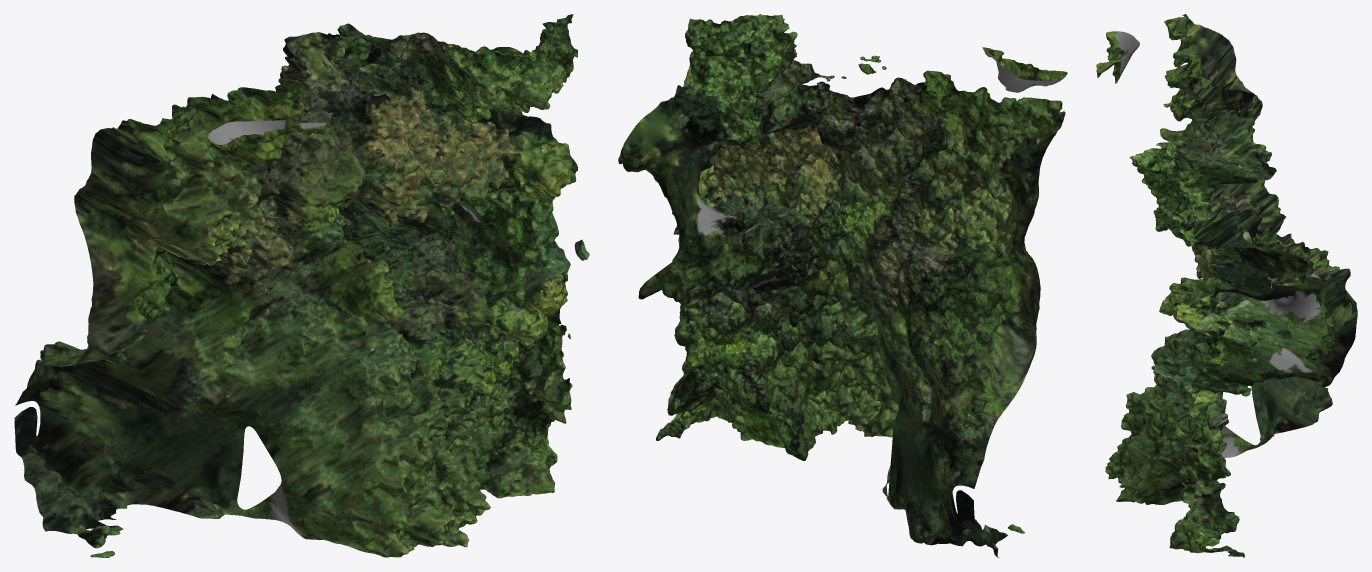
File: Tile_+002_+021.fbx
3 renders of one model, left to right at view 1: azimuth 30°, elevation 25°; view 2: azimuth 150°, elevation 25°; view 3: azimuth 270°, elevation 25°, orthographic. The views are drawn at different scales.
Parts seen in each view (by area): view 1: DefaultName; view 2: DefaultName; view 3: DefaultName.
Boxes of the visible parts, x1,y1,x2,y2 form: DefaultName: (14,14,589,557); DefaultName: (618,14,1067,557); DefaultName: (1096,14,1357,557).
Bounding box in the file's own units: 22.54 × 22.54 × 14.4.
